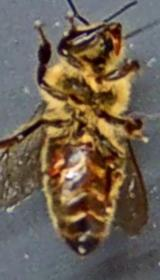varroa_mite: (36, 142, 90, 180)
